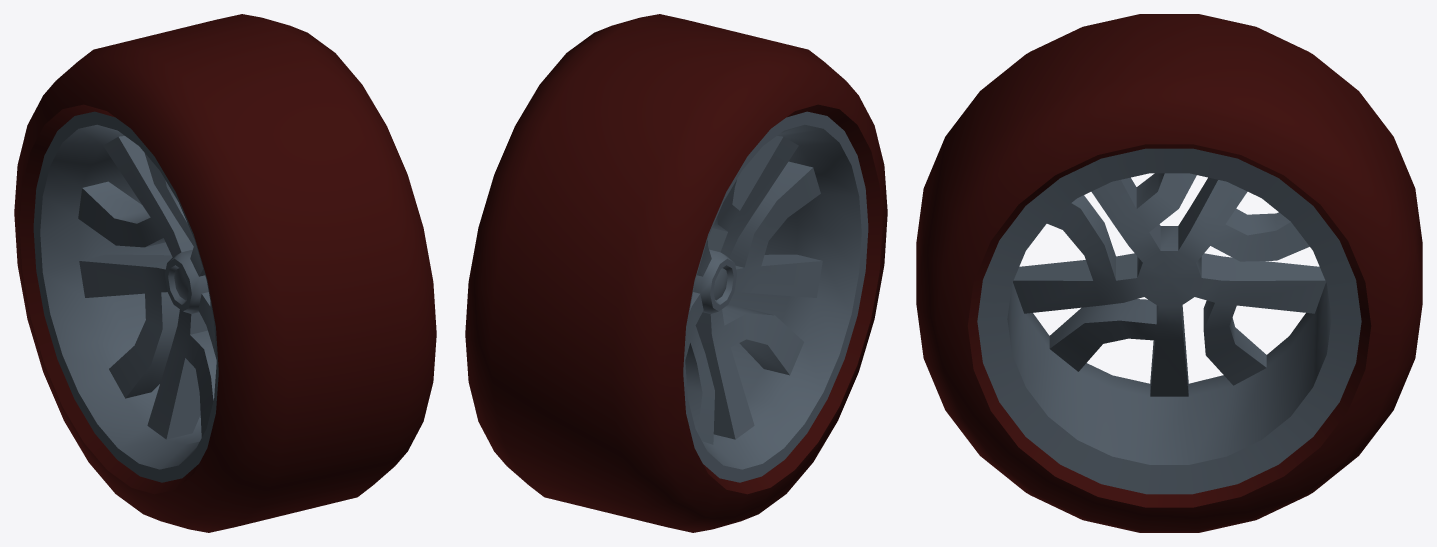
3 renders of one model, left to right at view 1: azimuth 30°, elevation 25°; view 2: azimuth 150°, elevation 25°; view 3: azimuth 270°, elevation 25°, orthographic.
Visible parts, largest first — view 1: W4B; view 2: W4B; view 3: W4B.
Boxes of the visible parts, left/top/right/bottom form: W4B: left=14, top=14, right=436, bottom=532; W4B: left=465, top=14, right=887, bottom=532; W4B: left=916, top=14, right=1422, bottom=532.
Bounding box in the file's own units: 14.02 × 28.35 × 28.56.
